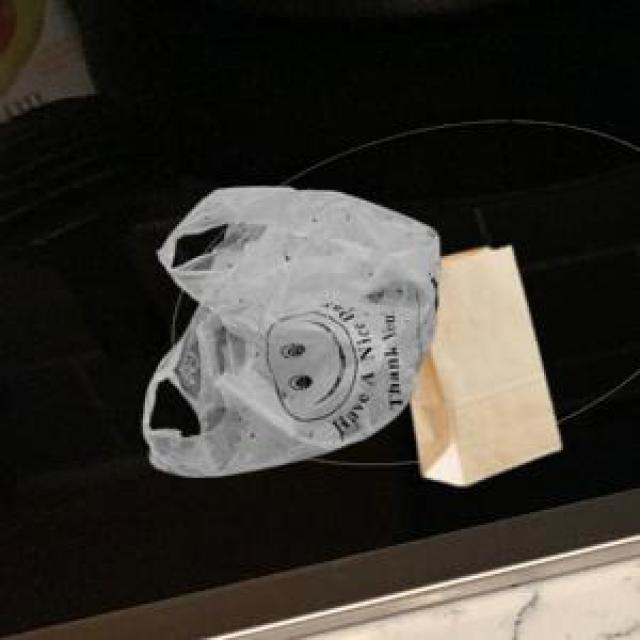paper: (405, 243, 557, 480)
